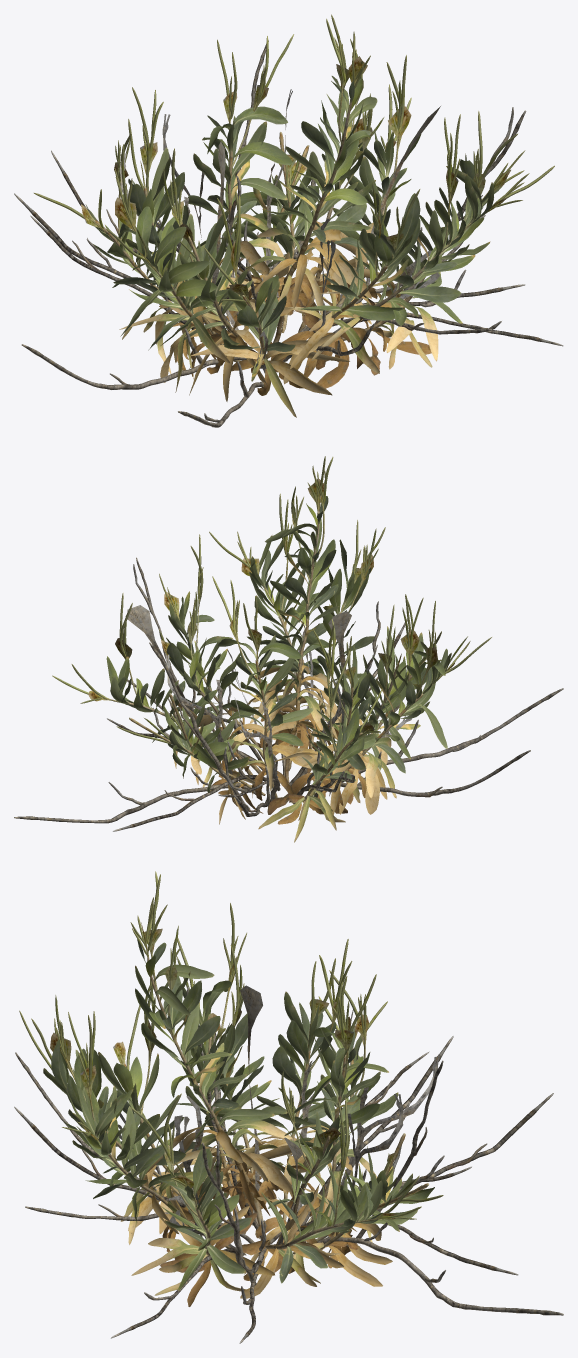
File: plant-2.glb
The picture shows the model from 3 angles, top to bottom: view 1: azimuth 30°, elevation 25°; view 2: azimuth 150°, elevation 25°; view 3: azimuth 270°, elevation 25°; orthographic projection. The views are drawn at different scales.
Visible parts, largest first — view 1: Rhazya stricta; view 2: Rhazya stricta; view 3: Rhazya stricta.
Part boxes in pixels (bbox=[...]): Rhazya stricta: bbox=[14, 14, 563, 427]; Rhazya stricta: bbox=[14, 456, 563, 842]; Rhazya stricta: bbox=[14, 871, 563, 1343].
Size of the model in its own units: 1.05 by 0.75 by 0.9686.
Materials: 1 (1 with a texture image).
